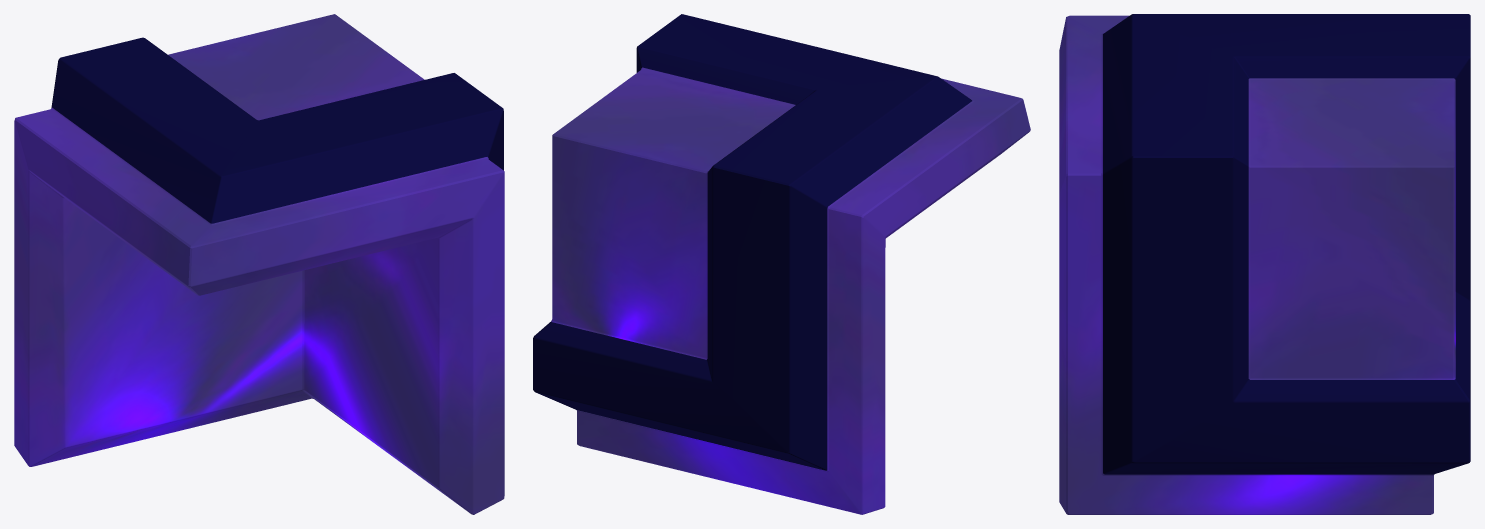
Rendered from corner7.fbx.
3 renders of one model, left to right at view 1: azimuth 30°, elevation 25°; view 2: azimuth 150°, elevation 25°; view 3: azimuth 270°, elevation 25°, orthographic. The views are drawn at different scales.
Parts seen in each view (by area): view 1: corner7; view 2: corner7; view 3: corner7.
Part boxes in pixels (x1,y1,x2,y2): corner7: (14, 14, 504, 514); corner7: (533, 14, 1030, 514); corner7: (1059, 14, 1470, 514).
Size of the model in its own units: 153 by 153 by 150.
